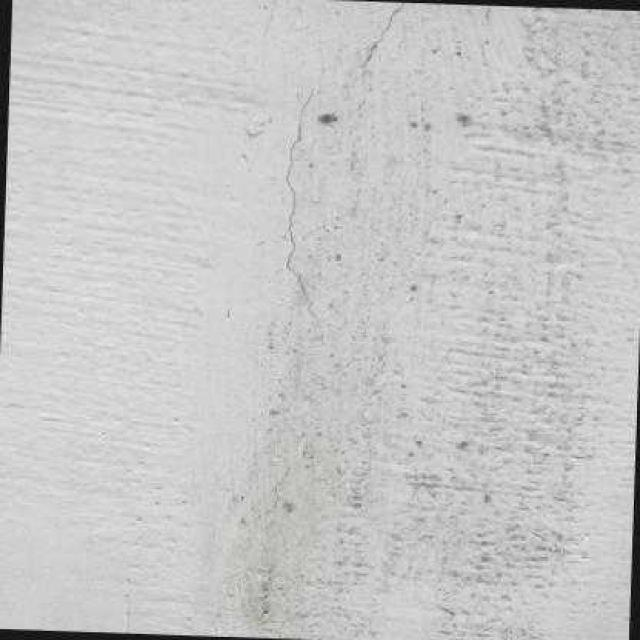D00: (282, 88, 317, 305), (359, 3, 406, 68)
